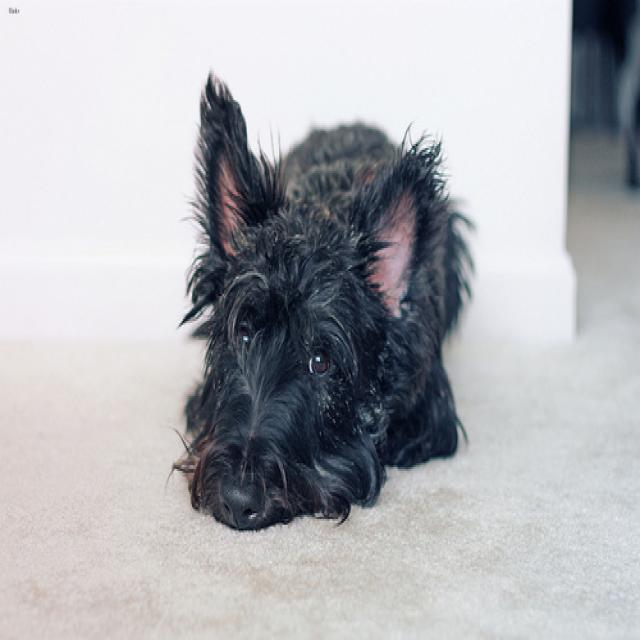dog-scottish_terrier: (160, 62, 483, 542)
